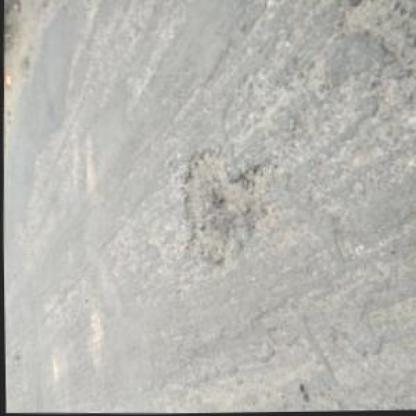pothole: (175, 144, 276, 266)
